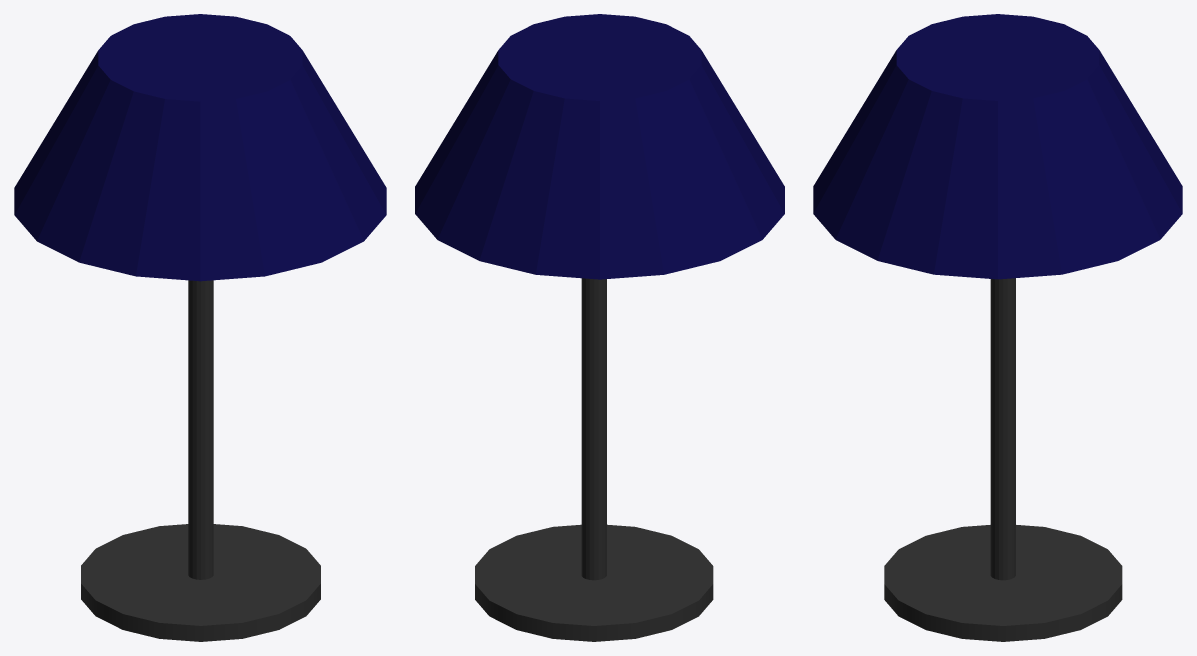
File: Standing Lamp.fbx
The picture shows the model from 3 angles, left to right: view 1: azimuth 30°, elevation 25°; view 2: azimuth 150°, elevation 25°; view 3: azimuth 270°, elevation 25°; orthographic projection.
Visible parts, largest first — view 1: Lamp Shade, Lamp; view 2: Lamp Shade, Lamp; view 3: Lamp Shade, Lamp.
Boxes of the visible parts, box(x1,y1,x2,y2) form: Lamp Shade: box(14, 14, 386, 281); Lamp: box(81, 280, 320, 641); Lamp Shade: box(415, 14, 784, 279); Lamp: box(475, 278, 713, 641); Lamp Shade: box(813, 14, 1182, 279); Lamp: box(884, 278, 1122, 641).
Size of the model in its own units: 38.21 by 59.75 by 37.63.
